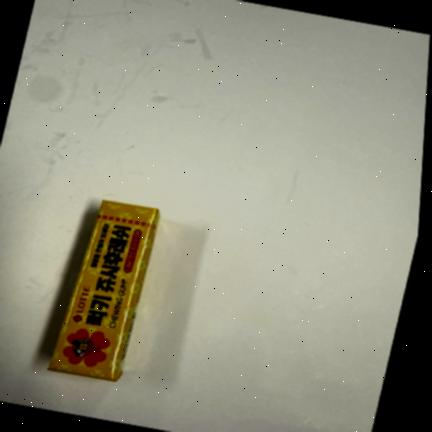gum_yellow: (49, 201, 161, 381)
